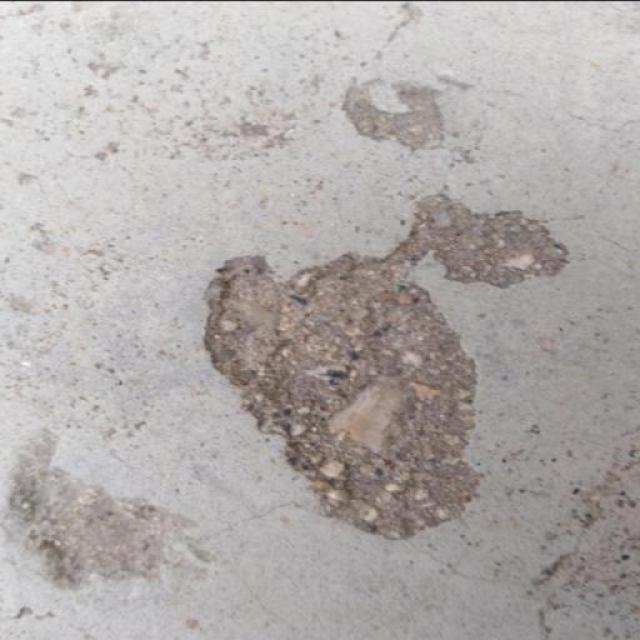D10: (202, 195, 566, 539), (0, 435, 184, 585), (341, 80, 450, 148)
